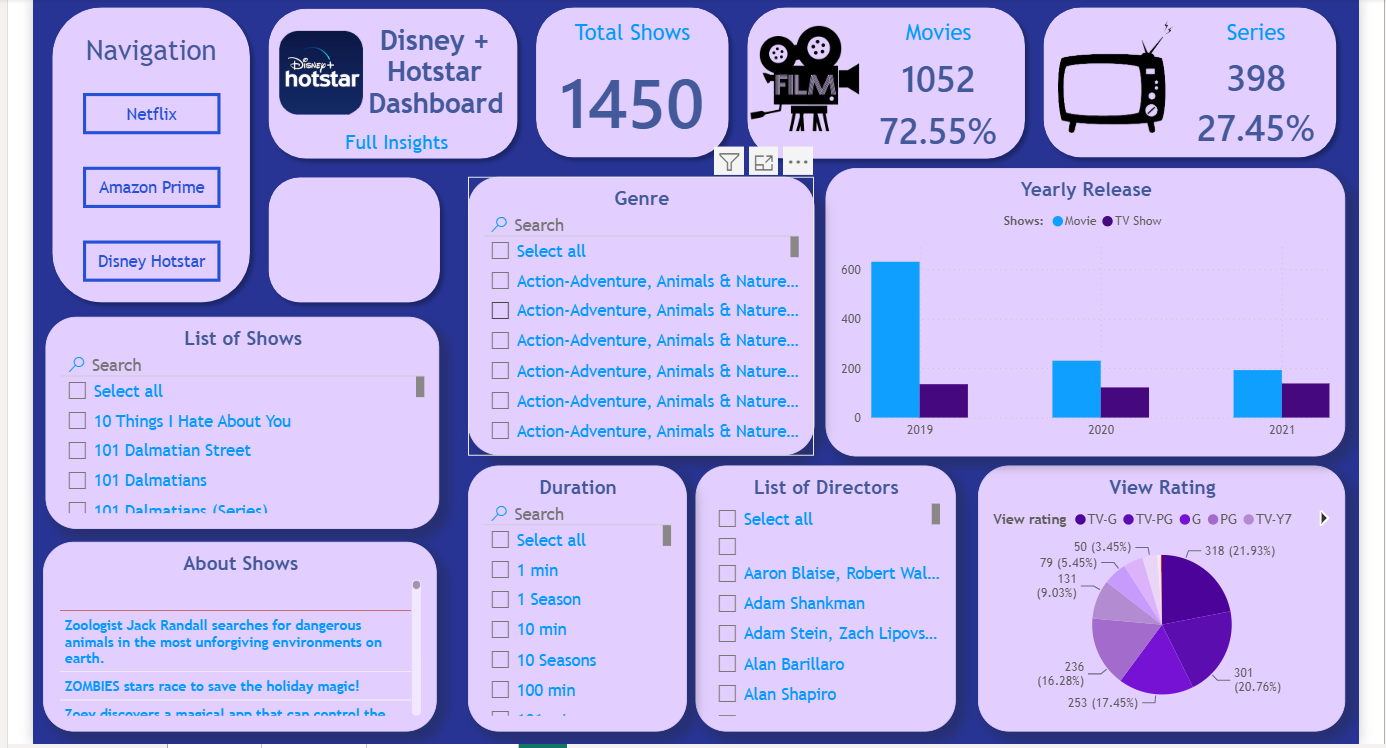

This screenshot's page, from the dashboard's own definition file:
{"tool":"powerbi","page":{"name":"Disney Hotstar","canvas":[1280,720],"ordinal":2},"visuals":[{"type":"shape","box":[9.7,0,208.7,302.8],"z":0},{"type":"shape","box":[218.4,1.2,258.2,162.9],"z":1000},{"type":"shape","box":[218.4,164.1,183.4,138.7],"z":2000},{"type":"shape","box":[680.4,0,285.9,164.1],"z":3000},{"type":"shape","box":[476.5,0,203.9,162.9],"z":4000},{"type":"shape","box":[966.4,0,300.4,162.9],"z":5000},{"type":"pieChart","title":"View Rating","fields":{"Category":["disney_plus_titles.rating"],"Y":["CountNonNull(disney_plus_titles.title)"]},"box":[912.1,451.2,354.7,257],"z":6000},{"type":"clusteredColumnChart","title":"Yearly Release","fields":{"Series":["disney_plus_titles.type"],"Y":["CountNonNull(disney_plus_titles.title)"],"Category":["disney_plus_titles.date_added.Variation.Date Hierarchy.Year"]},"box":[764.9,164.1,501.9,278.7],"z":7000},{"type":"slicer","title":"Genre","fields":{"Values":["disney_plus_titles.listed_in"]},"box":[419.8,172.5,334.2,269],"z":8000},{"type":"slicer","title":"List of Shows","fields":{"Values":["disney_plus_titles.title"]},"box":[12.1,307.6,380,205.1],"z":9000},{"type":"slicer","title":"List of Directors","fields":{"Values":["disney_plus_titles.director"]},"box":[639.4,451.2,250.9,257],"z":10000},{"type":"slicer","title":"Duration","fields":{"Values":["disney_plus_titles.duration"]},"box":[419.8,451.2,211.1,257],"z":11000},{"type":"tableEx","title":"About Shows","fields":{"Values":["disney_plus_titles.description"]},"box":[9.7,524.8,380,183.4],"z":12000},{"type":"textbox","box":[36.2,30.2,155.6,42.2],"z":13000},{"type":"actionButton","box":[48.3,91.7,132.7,39.8],"z":14000},{"type":"actionButton","box":[48.3,234,132.7,39.8],"z":15000},{"type":"actionButton","box":[48.3,162.9,132.7,39.8],"z":16000},{"type":"image","box":[237.7,25.3,80.8,92.9],"z":17000},{"type":"textbox","box":[318.5,20.5,146,102.5],"z":18000},{"type":"textbox","title":"Full Insights","box":[282.3,127.9,137.5,27.7],"z":19000},{"type":"image","box":[989.3,20.5,112.2,111],"z":20000},{"type":"image","box":[692.5,20.5,105,114.6],"z":21000},{"type":"cardVisual","title":"Total Shows","fields":{"Data":["disney_plus_titles.Shows hotstar"]},"box":[504.3,20.5,148.4,121.9],"z":22000},{"type":"cardVisual","title":"Movies","fields":{"Data":["disney_plus_titles.Movies Disney","disney_plus_titles.%movies Disney"]},"box":[809.5,20.5,129.1,131.5],"z":23000},{"type":"cardVisual","title":"Series","fields":{"Data":["disney_plus_titles.Shows Disney","disney_plus_titles.%series hotstar"]},"box":[1101.5,20.5,158,131.5],"z":24000}]}

Visuals, with their boxes in screenshot pixels (x1, y1, x2, y2):
shape: 25, 0, 246, 303
shape: 246, 0, 520, 156
shape: 246, 156, 441, 303
shape: 736, 0, 1040, 156
shape: 520, 0, 736, 155
shape: 1040, 0, 1358, 155
"View Rating" pieChart: 982, 461, 1358, 733
"Yearly Release" clusteredColumnChart: 826, 156, 1358, 452
"Genre" slicer: 460, 165, 814, 450
"List of Shows" slicer: 27, 308, 430, 526
"List of Directors" slicer: 693, 461, 959, 733
"Duration" slicer: 460, 461, 684, 733
"About Shows" tableEx: 25, 539, 428, 733
textbox: 53, 14, 218, 59
actionButton: 66, 79, 206, 121
actionButton: 66, 230, 206, 272
actionButton: 66, 155, 206, 197
image: 267, 9, 352, 107
textbox: 352, 4, 507, 112
"Full Insights" textbox: 314, 118, 460, 147
image: 1064, 4, 1183, 121
image: 749, 4, 861, 125
"Total Shows" cardVisual: 549, 4, 707, 133
"Movies" cardVisual: 873, 4, 1010, 143
"Series" cardVisual: 1183, 4, 1351, 143
